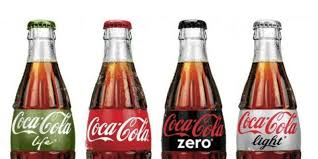coke-glass-bottle: (235, 12, 308, 159), (160, 12, 231, 158), (83, 14, 154, 159), (9, 14, 78, 159)
